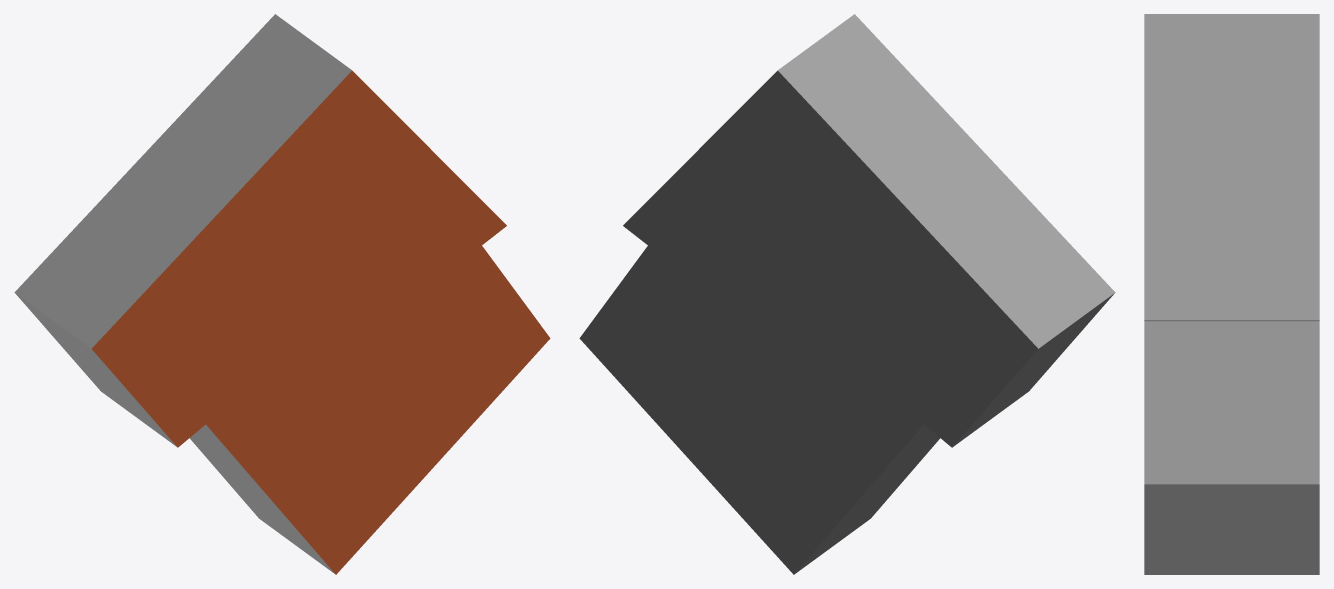
The model's file is construction_6514_assumed_A_Casa_h6m.obj.
3 views of the same model, side by side, from view 1: azimuth 30°, elevation 25°; view 2: azimuth 150°, elevation 25°; view 3: azimuth 270°, elevation 25° (orthographic). The views are drawn at different scales.
Visible parts, largest first — view 1: construction_6514_assumed_A_Casa; view 2: construction_6514_assumed_A_Casa; view 3: construction_6514_assumed_A_Casa.
Part boxes in pixels (bbox=[...]): construction_6514_assumed_A_Casa: bbox=[14, 14, 550, 574]; construction_6514_assumed_A_Casa: bbox=[579, 14, 1115, 574]; construction_6514_assumed_A_Casa: bbox=[1144, 14, 1319, 574].
Size of the model in its own units: 20.65 by 21.52 by 6.
